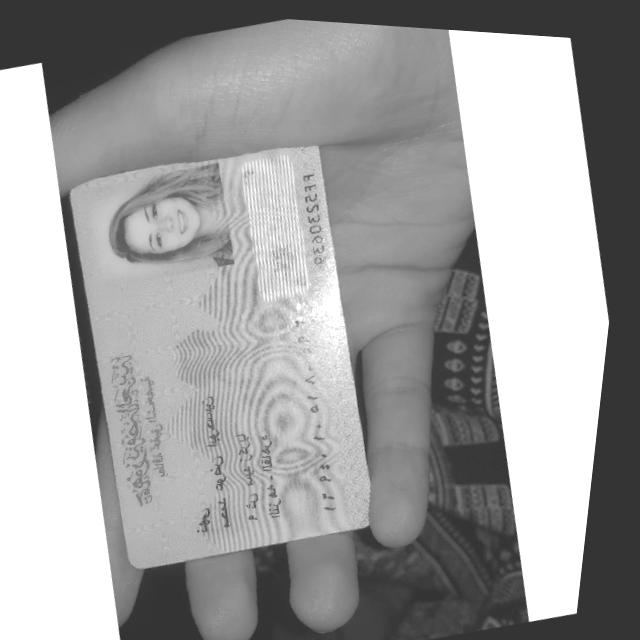front: (69, 144, 369, 566)
